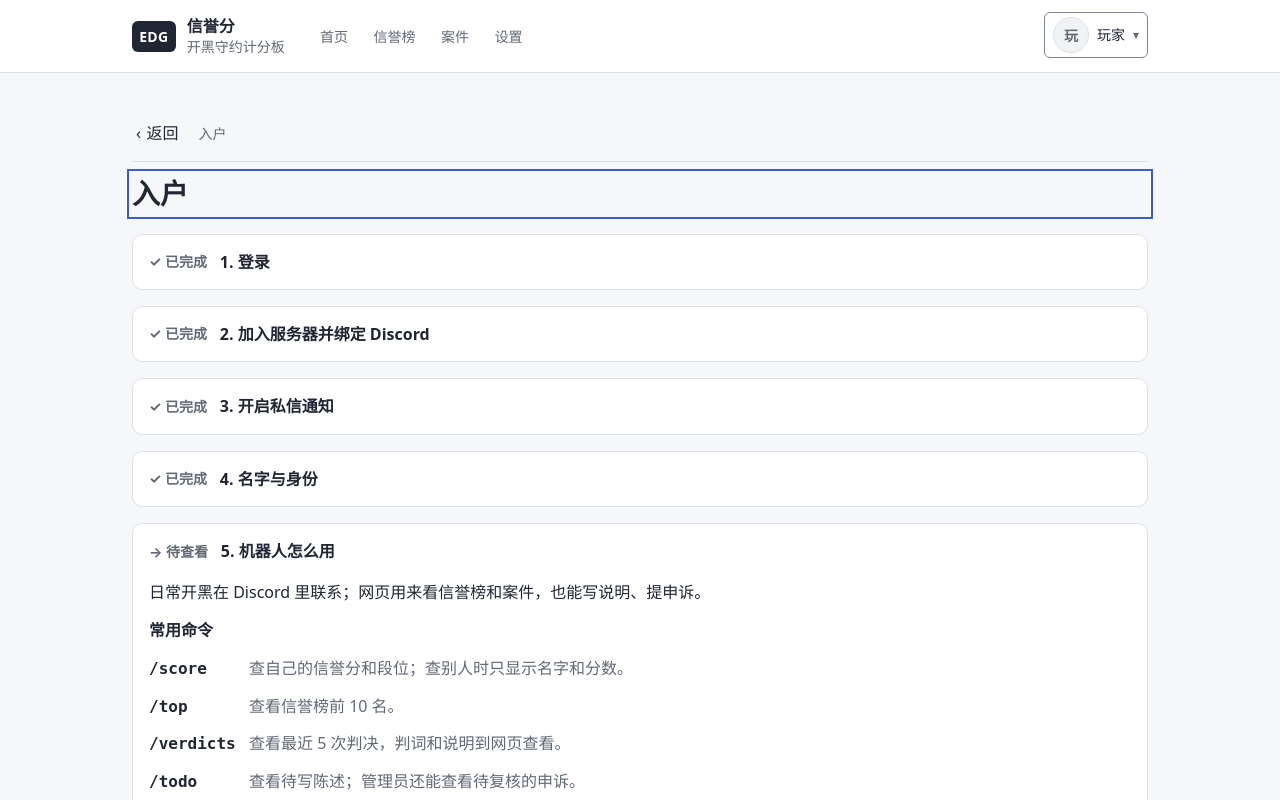
Test: welcome page › explains actual DM delivery status, supports resend and never polls: dm_ok=true
This screenshot has width=1280, height=800.
Expected: the heading "入户" is shown, [132, 174, 188, 212]
Step 1. Click the button "✓ 已完成 3. 开启私信通知" → (178, 406), box [133, 379, 1147, 434]
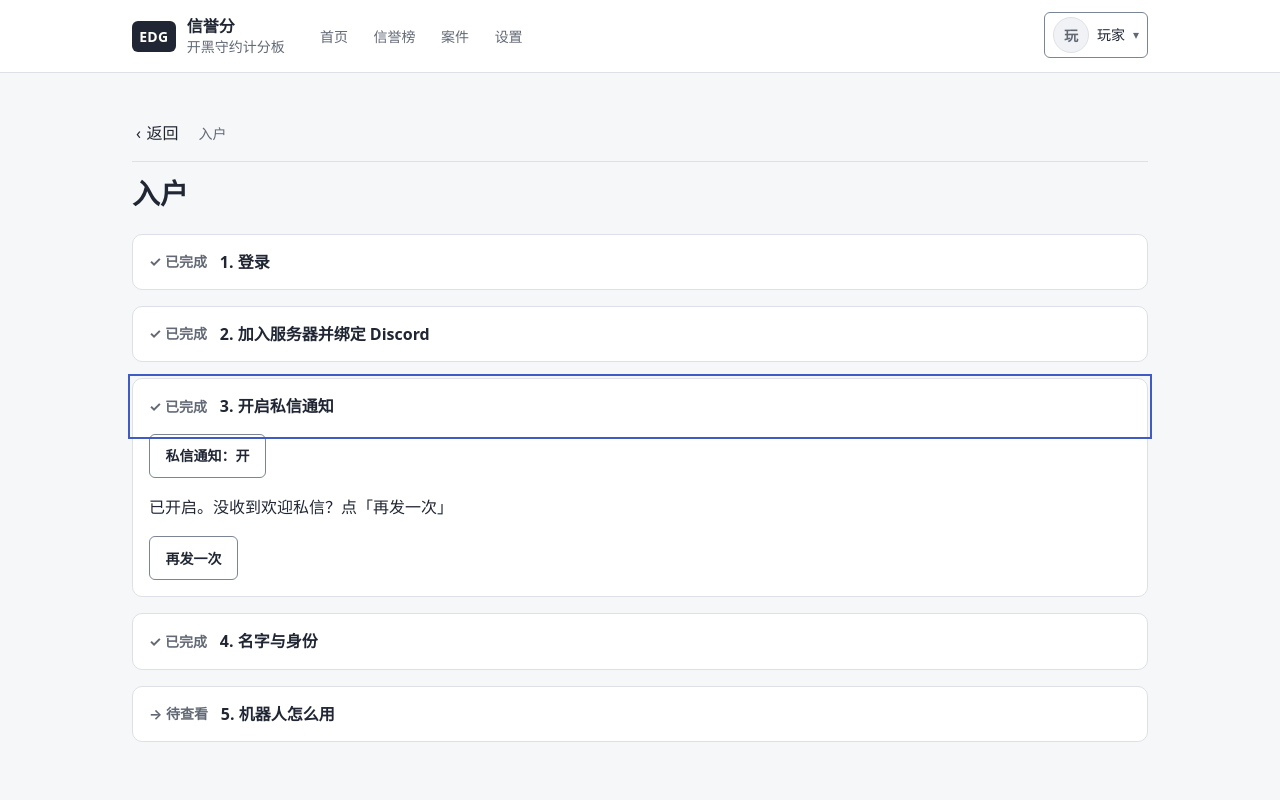
Step 2. Click the button "再发一次" → (193, 558), box [149, 536, 238, 580]
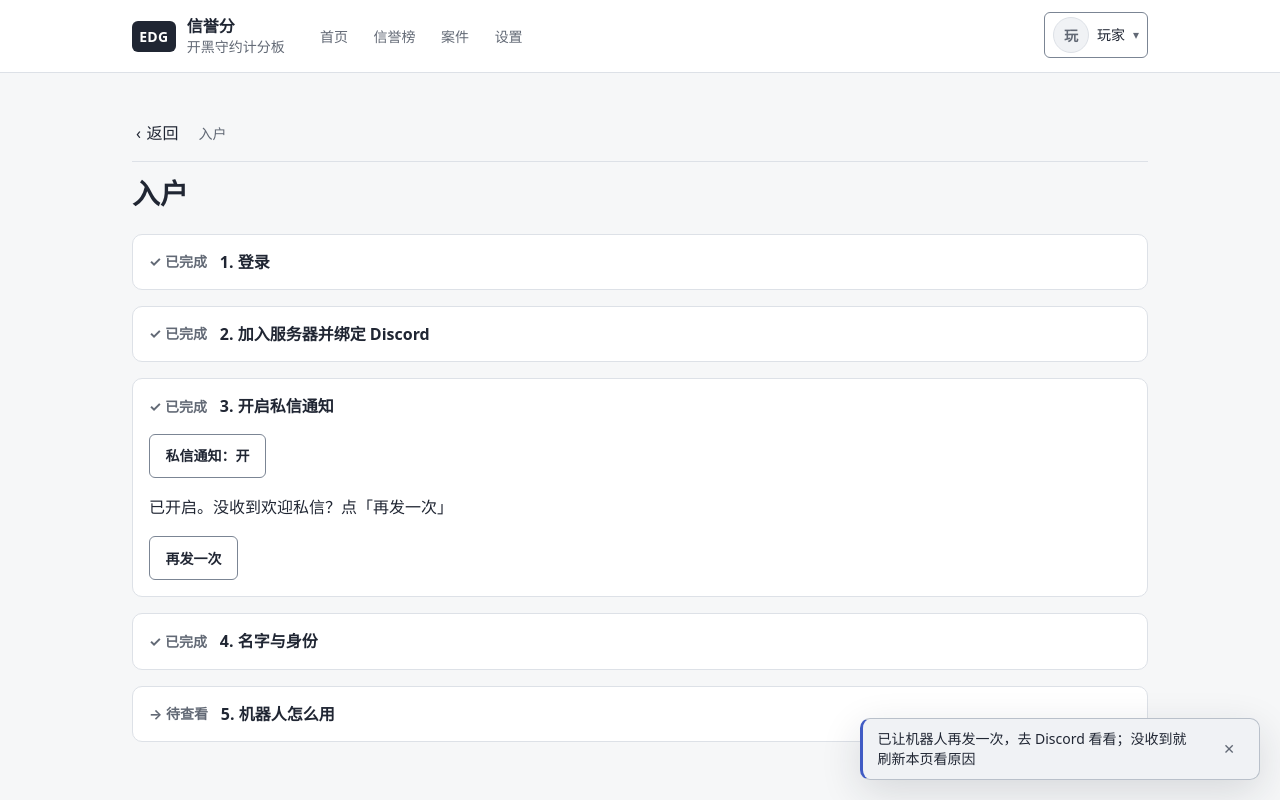
Expected: the text "已让机器人再发一次，去 Discord 看看；没收到就刷新本页看原因" is shown, [877, 729, 1197, 769]
